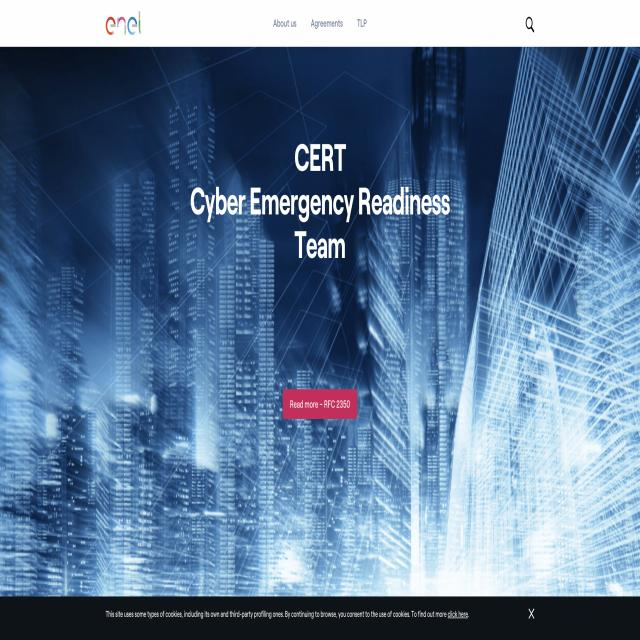Logo: (99, 2, 156, 45)
Navigation: (234, 0, 426, 42)
